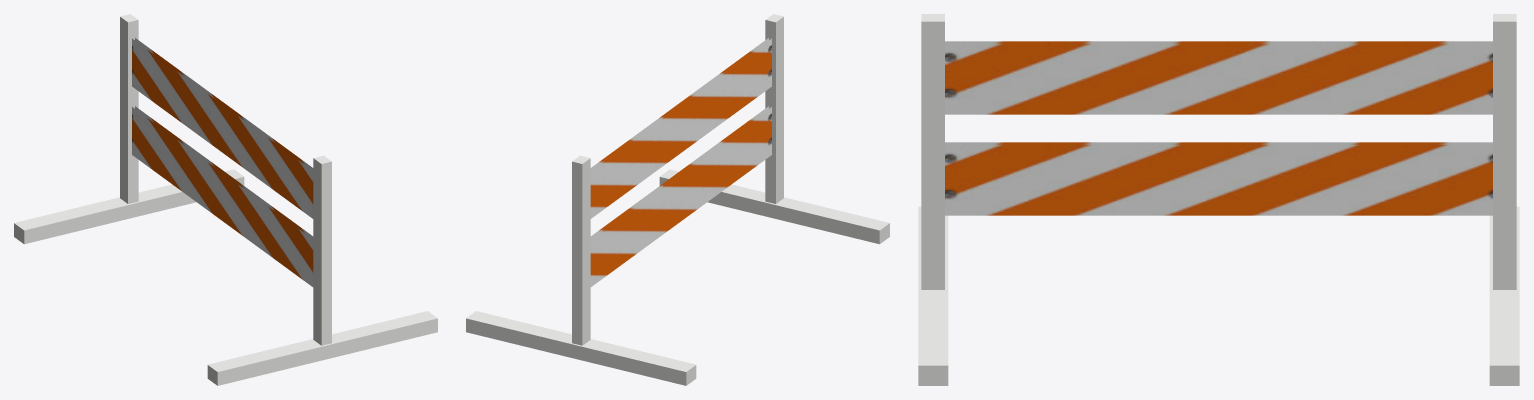
File: Traffic Barricade.fbx
The picture shows the model from 3 angles, left to right: view 1: azimuth 30°, elevation 25°; view 2: azimuth 150°, elevation 25°; view 3: azimuth 270°, elevation 25°; orthographic projection. The views are drawn at different scales.
Parts seen in each view (by area): view 1: Traffic_barricade; view 2: Traffic_barricade; view 3: Traffic_barricade.
Part boxes in pixels (x1,y1,x2,y2): Traffic_barricade: [14, 14, 437, 385]; Traffic_barricade: [466, 14, 889, 385]; Traffic_barricade: [918, 14, 1519, 385].
Size of the model in its own units: 25 by 21.2 by 40.03.
